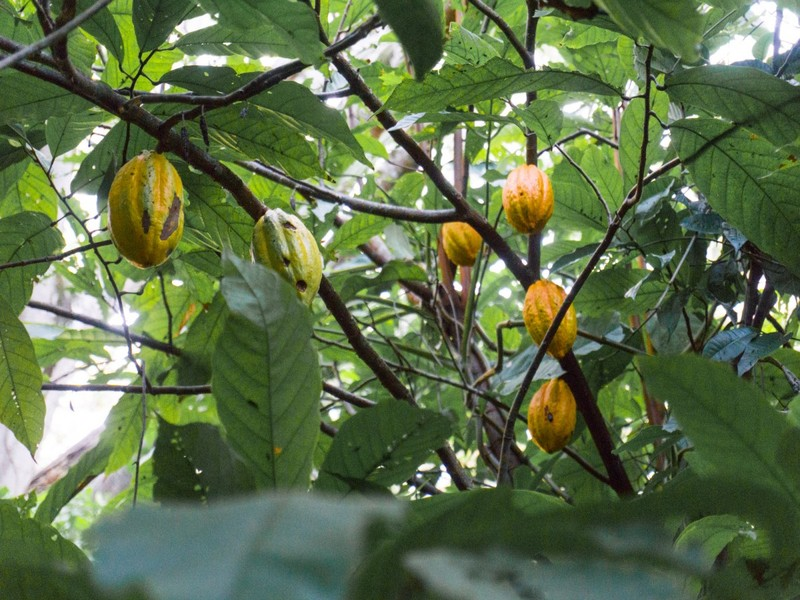Cacaopod: (107, 149, 186, 267)
